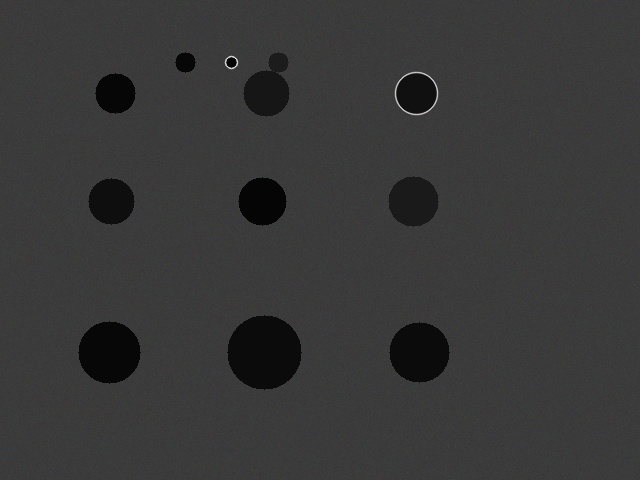hole: (227, 315, 301, 389), (78, 321, 140, 383), (389, 322, 449, 382), (388, 176, 438, 226), (238, 177, 286, 225), (243, 70, 289, 116), (88, 178, 134, 224), (395, 72, 437, 114), (95, 73, 135, 113), (175, 52, 195, 72), (268, 52, 288, 72), (225, 56, 237, 68)
